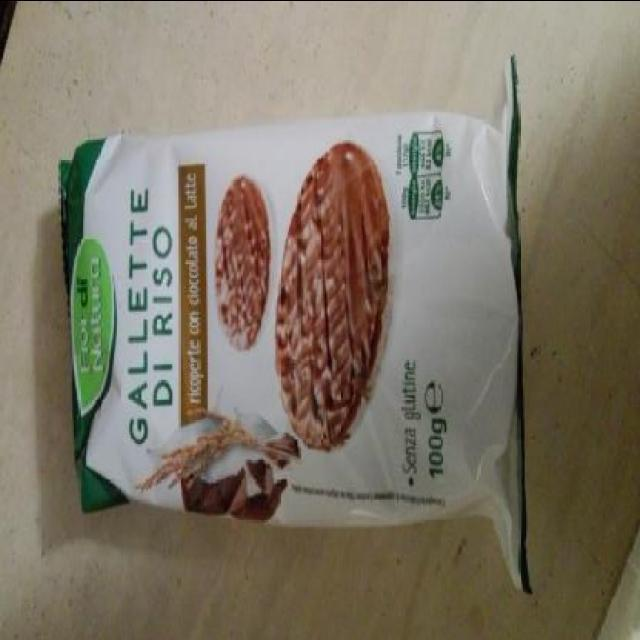Gallette di riso: (66, 52, 542, 564)
